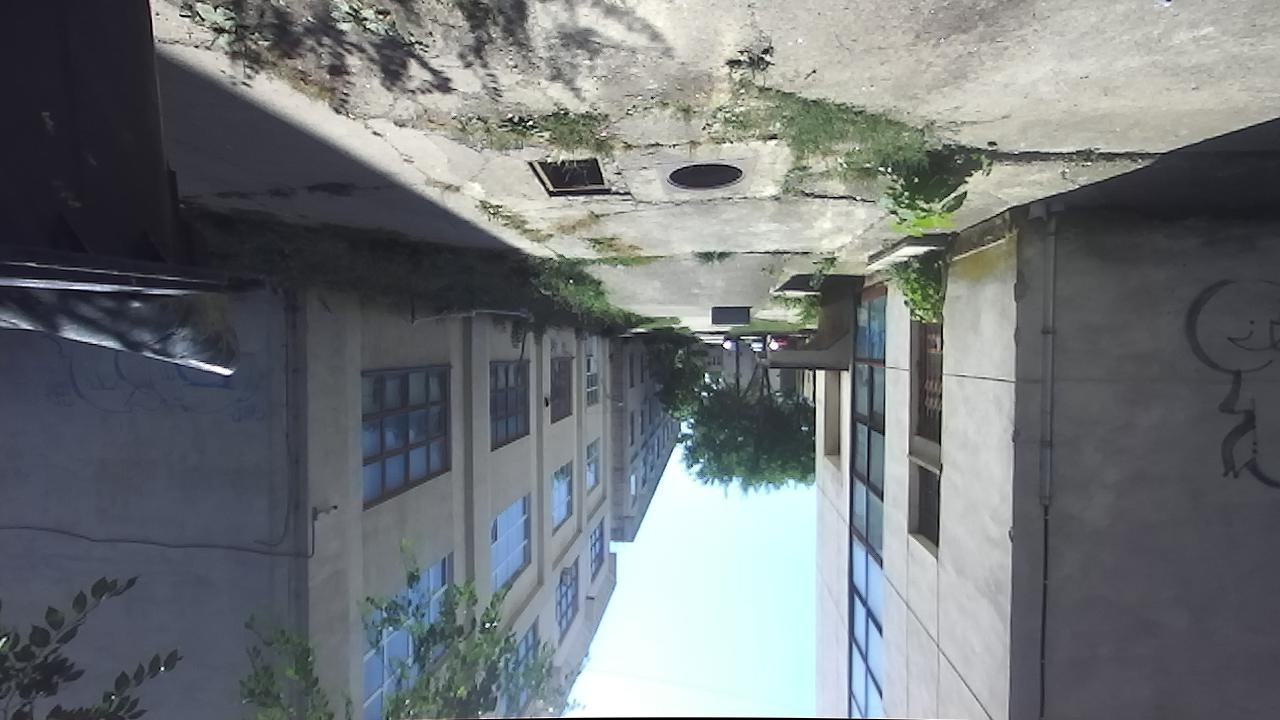drain: (524, 153, 613, 204), (662, 156, 747, 198)
